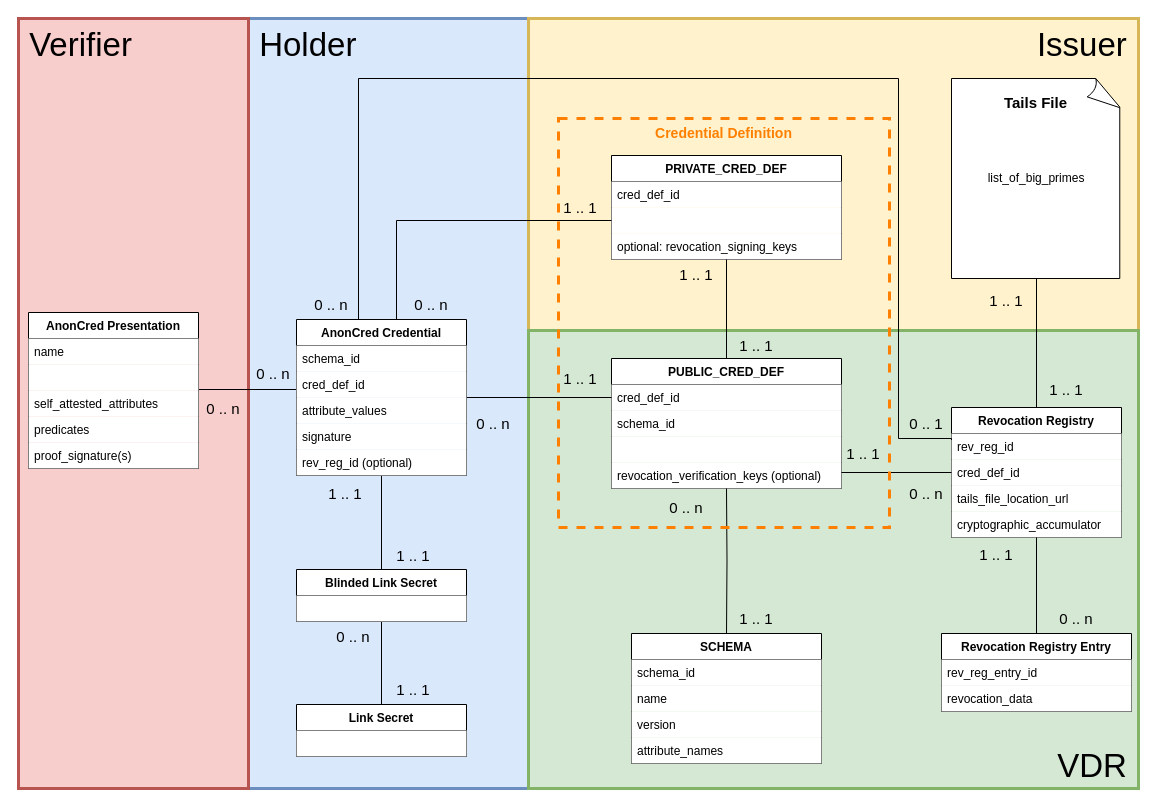
Image size: 1157x807. Some labels were removed from this diagram. The shapes that lost their labels are listed below. From the top down, each one's centre as x and y in pixels, then its label:
[726,220]: credential_signing_keys
[113,377]: revealed_attributes
[726,449]: credential_verification_keys
[381,608]: blinded_form_of_link_secret
[381,743]: secret
